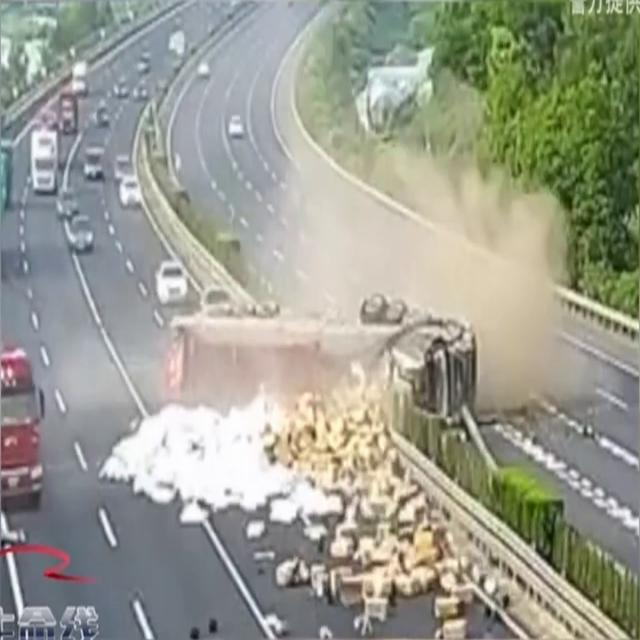normal: (0, 78, 65, 244)
single accident: (146, 302, 521, 478)
